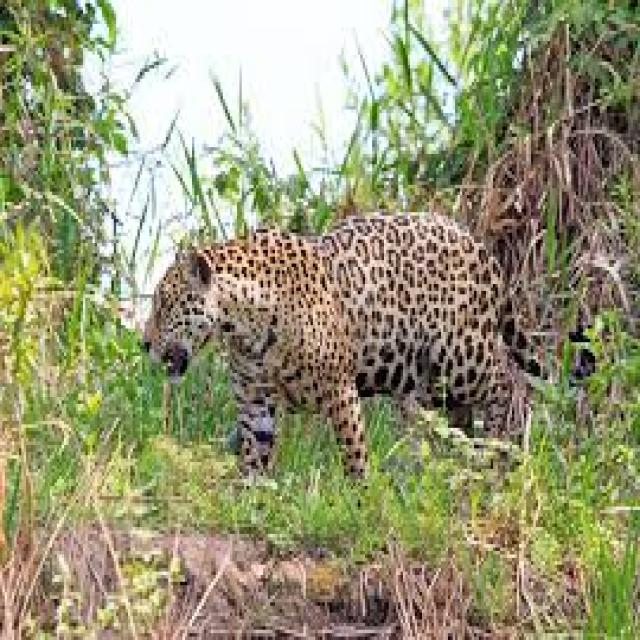Jaguar: (140, 208, 512, 482)
